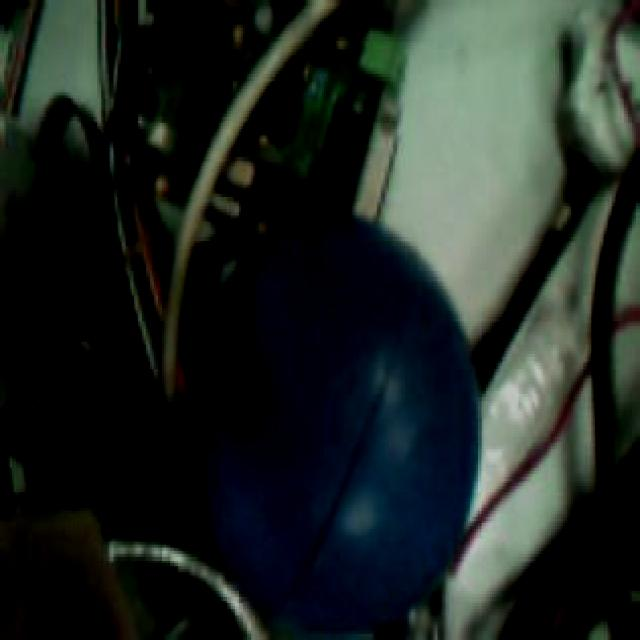BallPurple: (197, 214, 480, 634)
